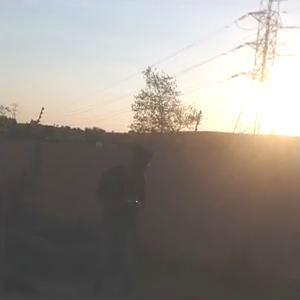follow: (92, 139, 154, 298)
